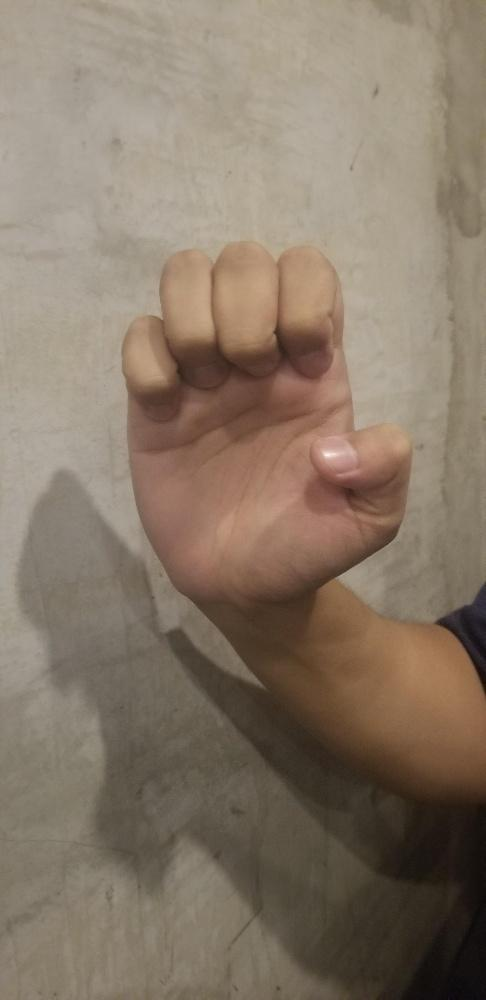e: (124, 236, 416, 604)
